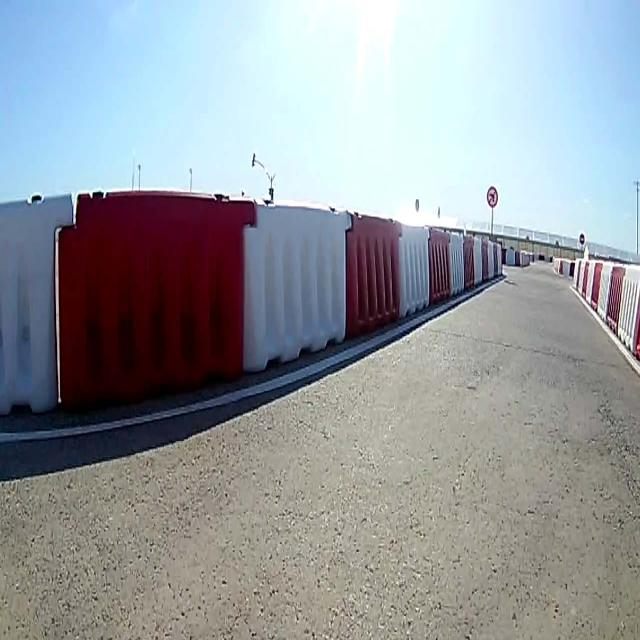soladonulmez: (486, 182, 498, 210)
